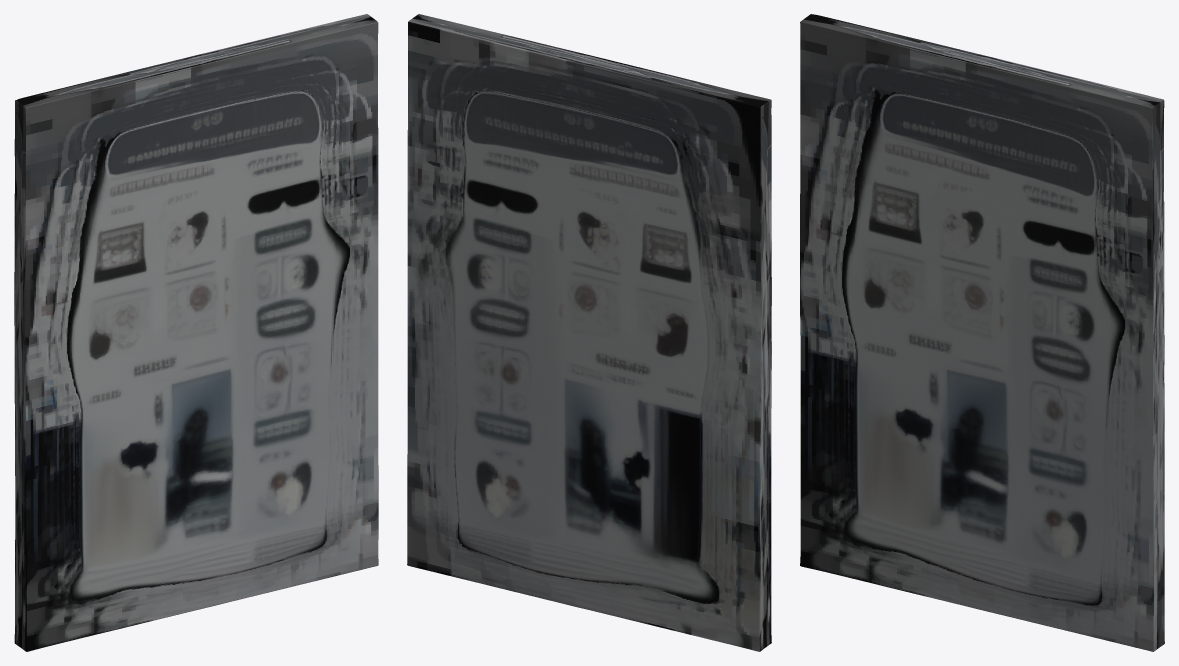
3 views of the same model, side by side, from view 1: azimuth 30°, elevation 25°; view 2: azimuth 150°, elevation 25°; view 3: azimuth 330°, elevation 25° (orthographic).
Visible parts, largest first — view 1: world; view 2: world; view 3: world.
Boxes of the visible parts, left/top/right/bottom form: world: left=14, top=14, right=378, bottom=651; world: left=407, top=14, right=771, bottom=651; world: left=800, top=14, right=1164, bottom=651.
Size of the model in its own units: 0.6808 by 1 by 0.0403.
Materials: 1 (1 with a texture image).
